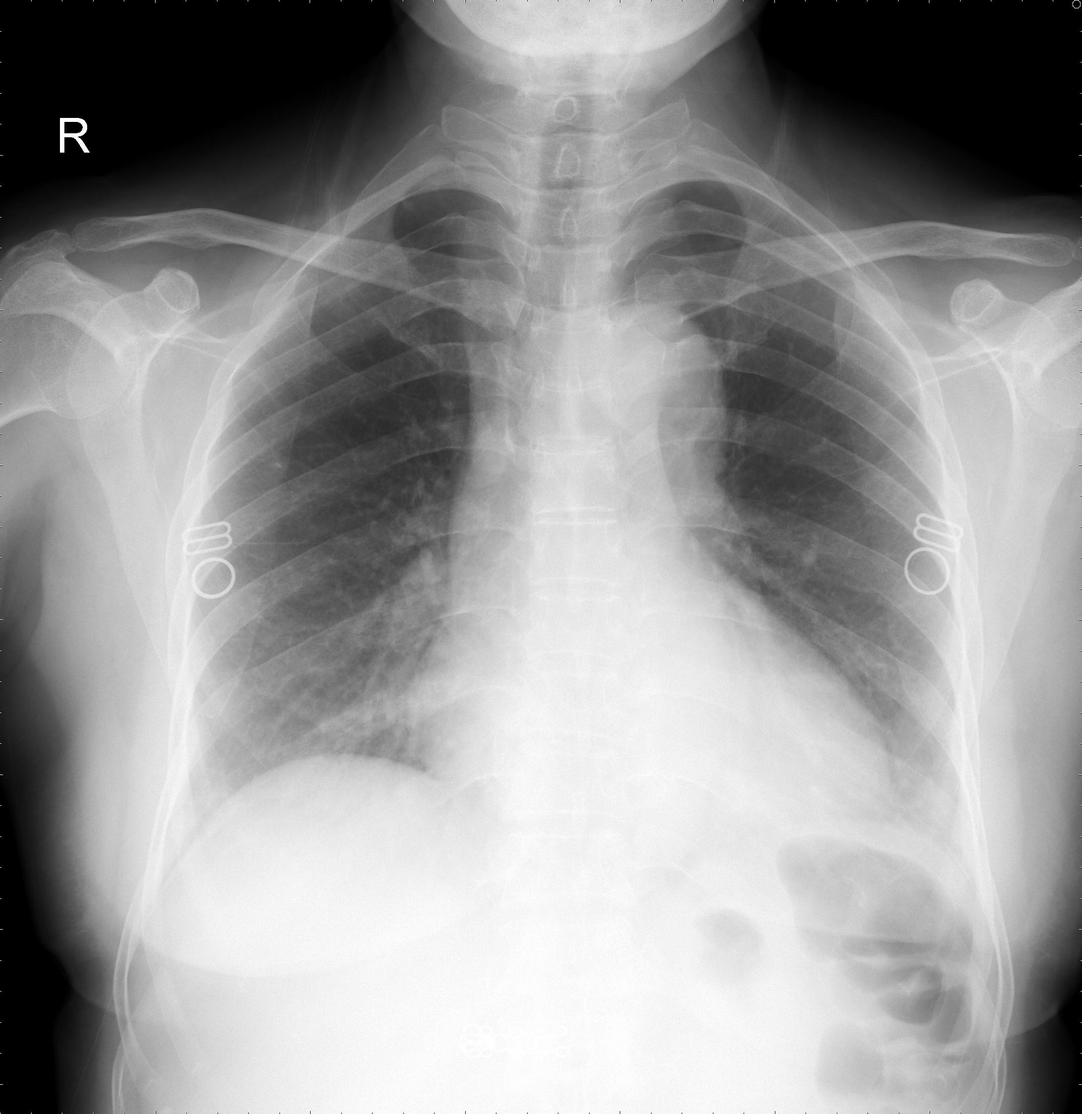Aortic enlargement: (591, 308, 726, 507)
Cardiomegaly: (416, 657, 907, 819)
